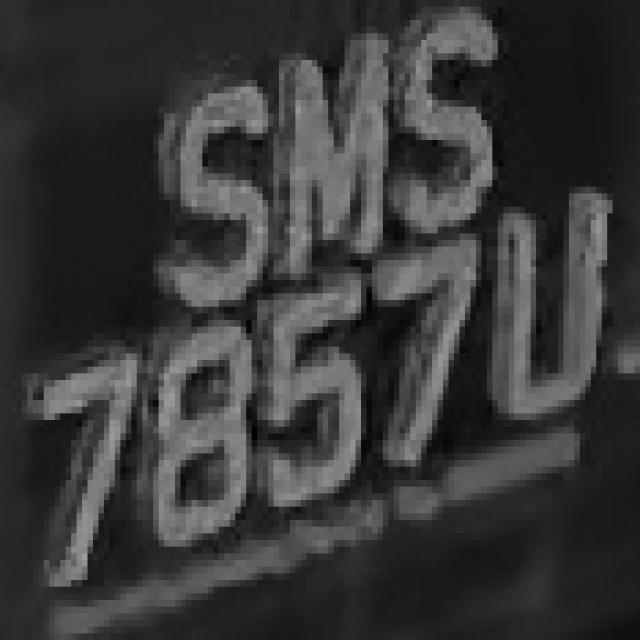5: (257, 300, 394, 513)
7: (11, 366, 131, 586), (378, 253, 482, 487)
8: (136, 340, 262, 547)
M: (262, 47, 400, 273)
S: (132, 94, 274, 314), (400, 40, 514, 247)
U: (487, 200, 629, 427)
